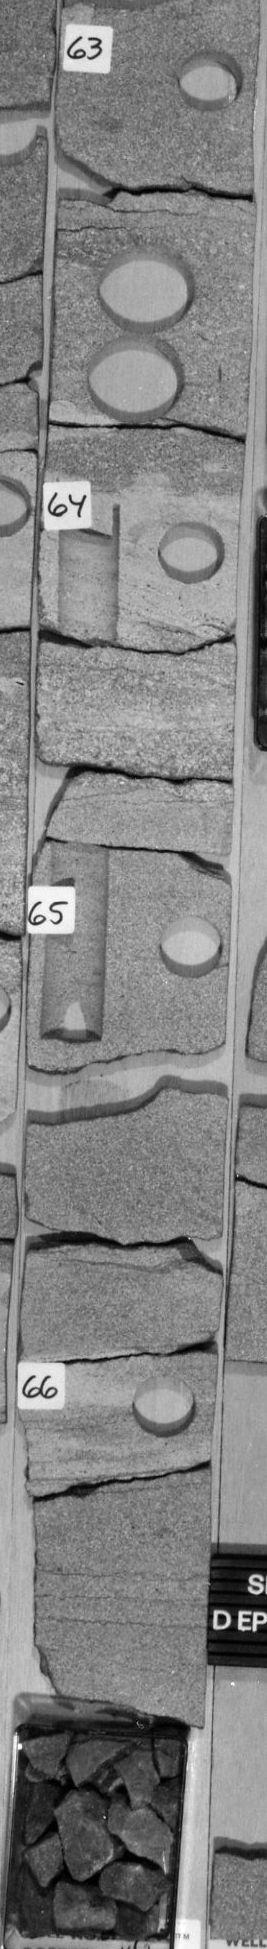hplug: (170, 39, 248, 117), (122, 1369, 204, 1443), (150, 515, 230, 589), (152, 907, 226, 983)
scal: (82, 333, 196, 429), (94, 232, 200, 336)
vplug: (40, 837, 115, 1047), (50, 497, 132, 648)
